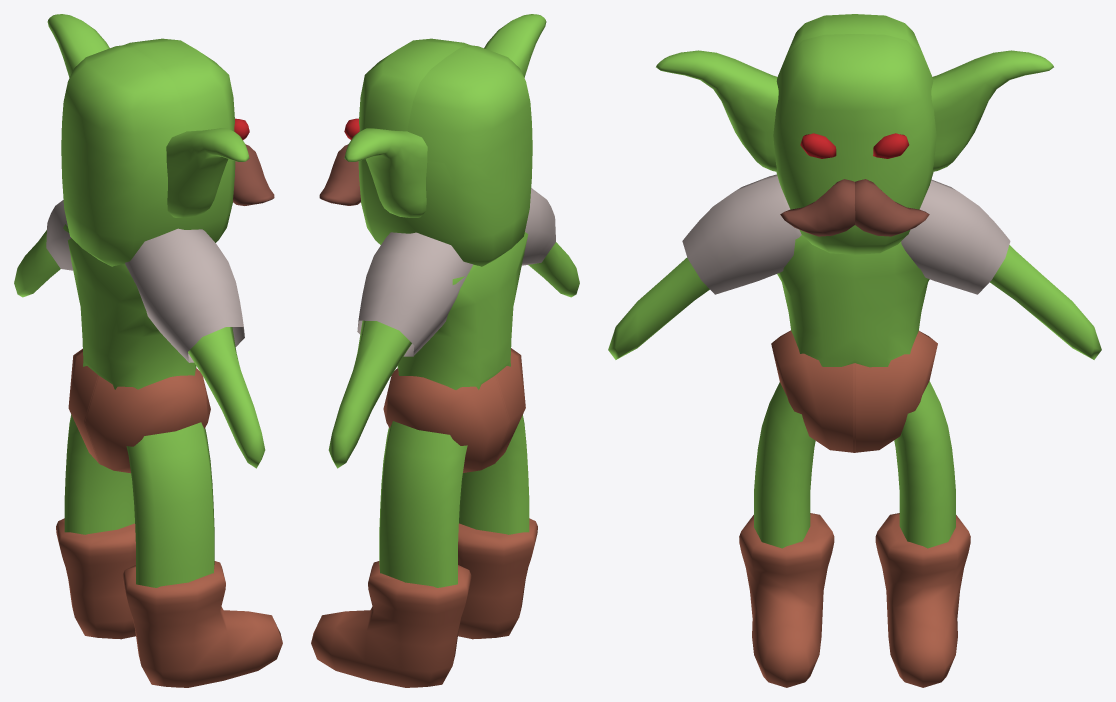
The model's file is BomberGoblin.fbx.
3 renders of one model, left to right at view 1: azimuth 30°, elevation 25°; view 2: azimuth 150°, elevation 25°; view 3: azimuth 270°, elevation 25°, orthographic. The views are drawn at different scales.
Visible parts, largest first — view 1: Cube.025, Cube.026, Cube.028, Cube.033, Cube.029, Cube.027, Cube.031; view 2: Cube.025, Cube.026, Cube.028, Cube.033, Cube.029, Cube.027, Cube.031; view 3: Cube.025, Cube.026, Cube.028, Cube.033, Cube.027, Cube.029, Cube.031, Cube.024.
Part boxes in pixels (x1,y1,x2,y2): Cube.025: (14,224,265,587); Cube.026: (61,38,235,266); Cube.028: (56,518,282,687); Cube.033: (46,200,244,362); Cube.029: (68,348,210,473); Cube.027: (47,14,249,217); Cube.031: (233,144,274,205); Cube.025: (328,232,579,587); Cube.026: (358,38,532,266); Cube.028: (311,518,537,687); Cube.033: (357,188,555,356); Cube.029: (383,348,525,472); Cube.027: (344,14,546,217); Cube.031: (319,144,360,205); Cube.025: (608,235,1101,548); Cube.026: (773,14,936,254); Cube.028: (739,513,970,687); Cube.033: (682,174,1010,294); Cube.027: (656,50,1053,171); Cube.029: (771,330,937,452); Cube.031: (780,179,929,236); Cube.024: (800,133,909,158).
Size of the model in its own units: 193 by 645 by 465.
